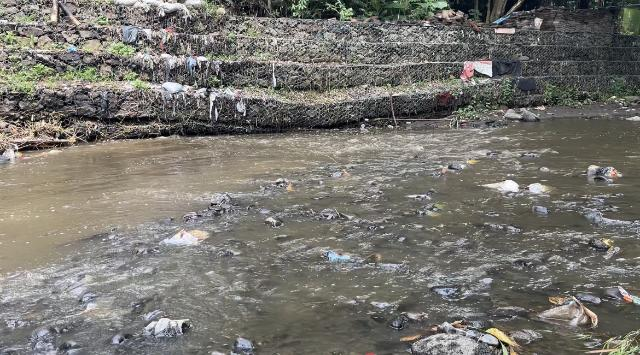Sampah Anorganik: (533, 298, 598, 329), (579, 162, 631, 187), (163, 230, 208, 247), (320, 249, 362, 266), (486, 181, 521, 193), (618, 289, 640, 304), (529, 183, 554, 195), (407, 195, 433, 203), (463, 160, 480, 165)
Sampah Organik: (398, 321, 520, 355), (424, 205, 443, 217), (284, 185, 297, 194), (340, 169, 350, 175), (441, 169, 447, 173)
